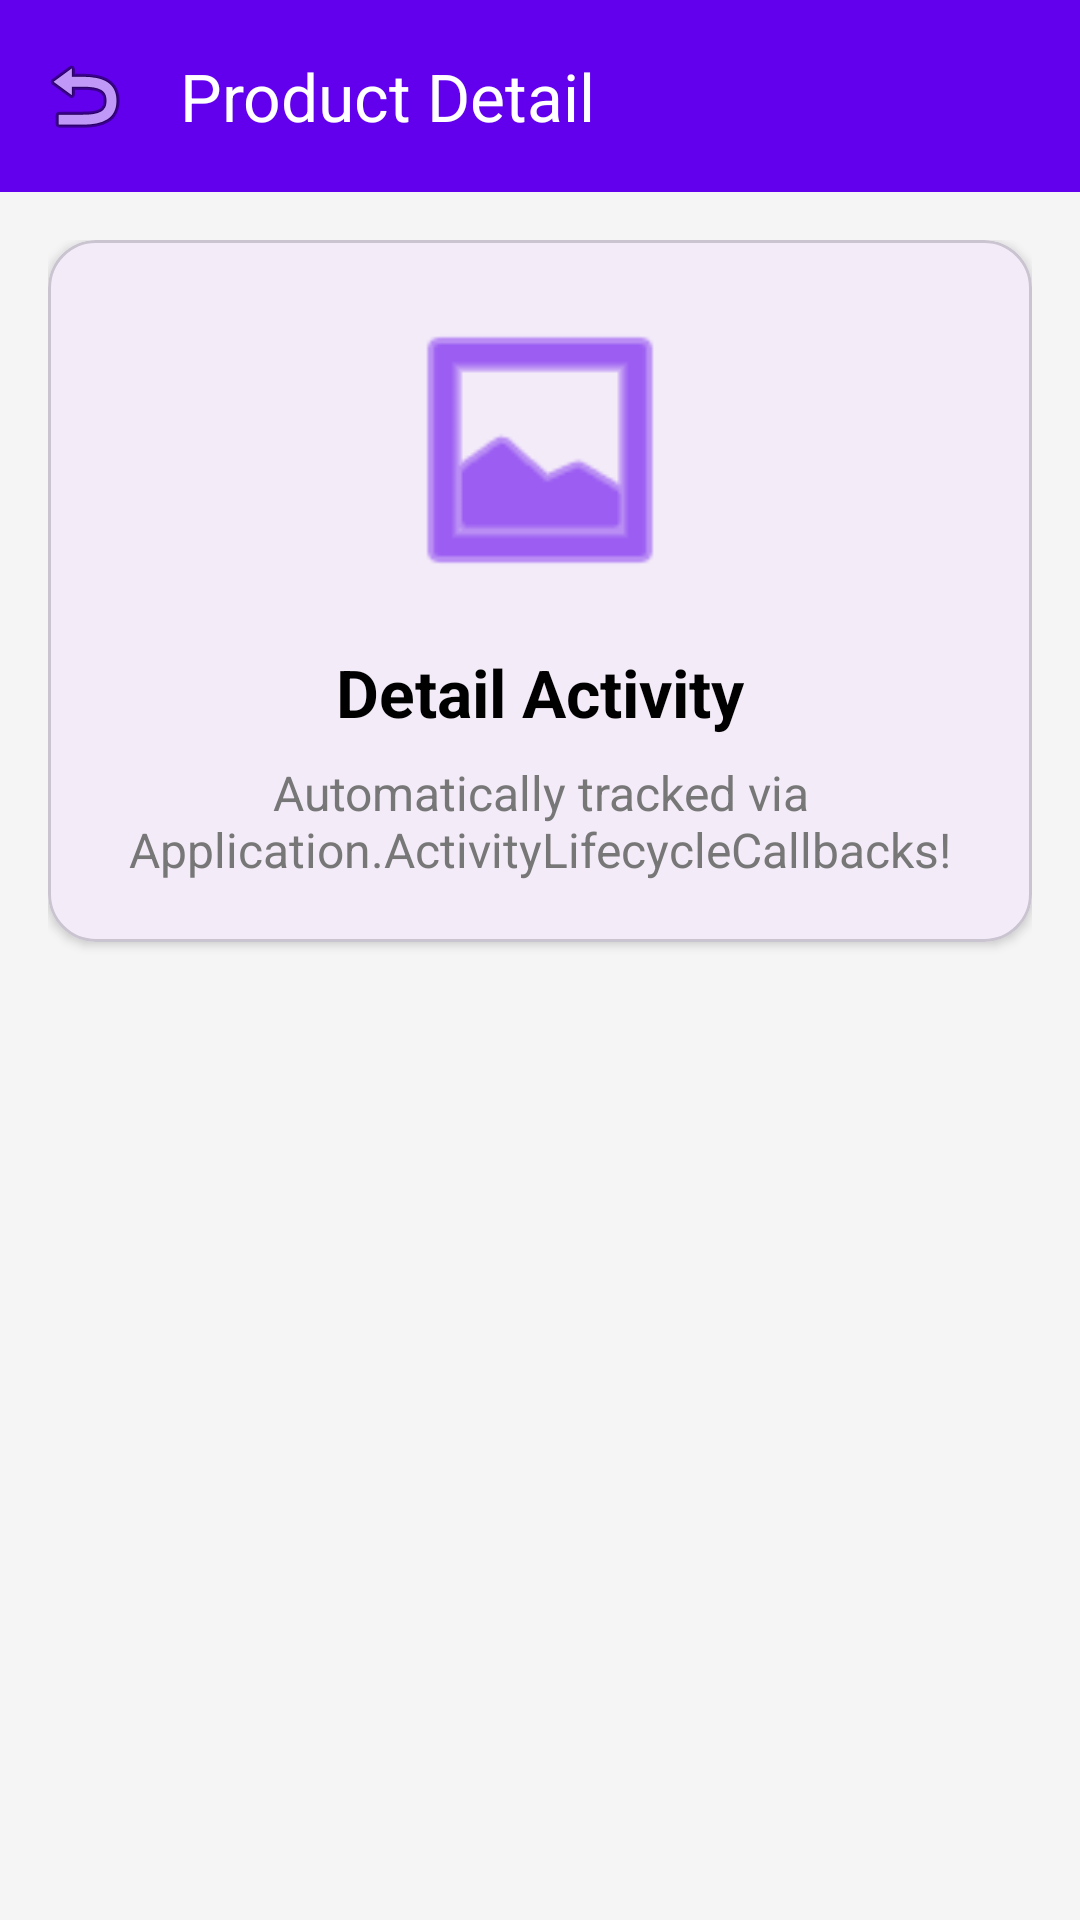

Where to tap for icons on this 1080px x 1920px app screen, as point (x, y):
gallery: point (540, 450)
